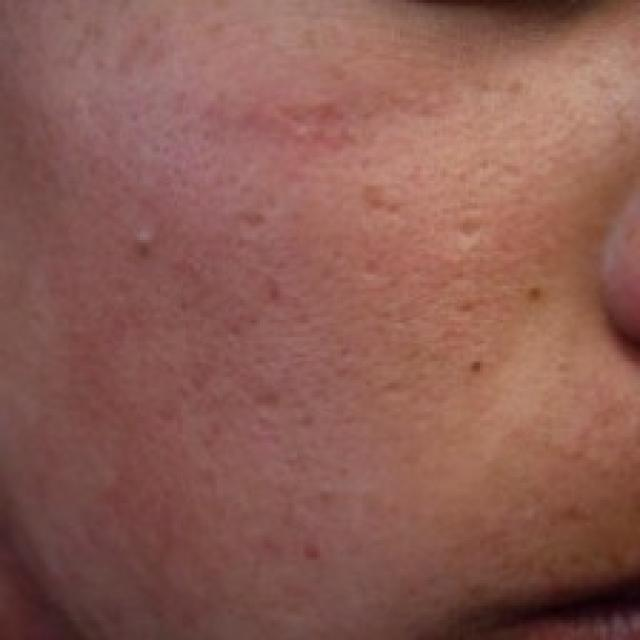Acne: (126, 225, 154, 258)
